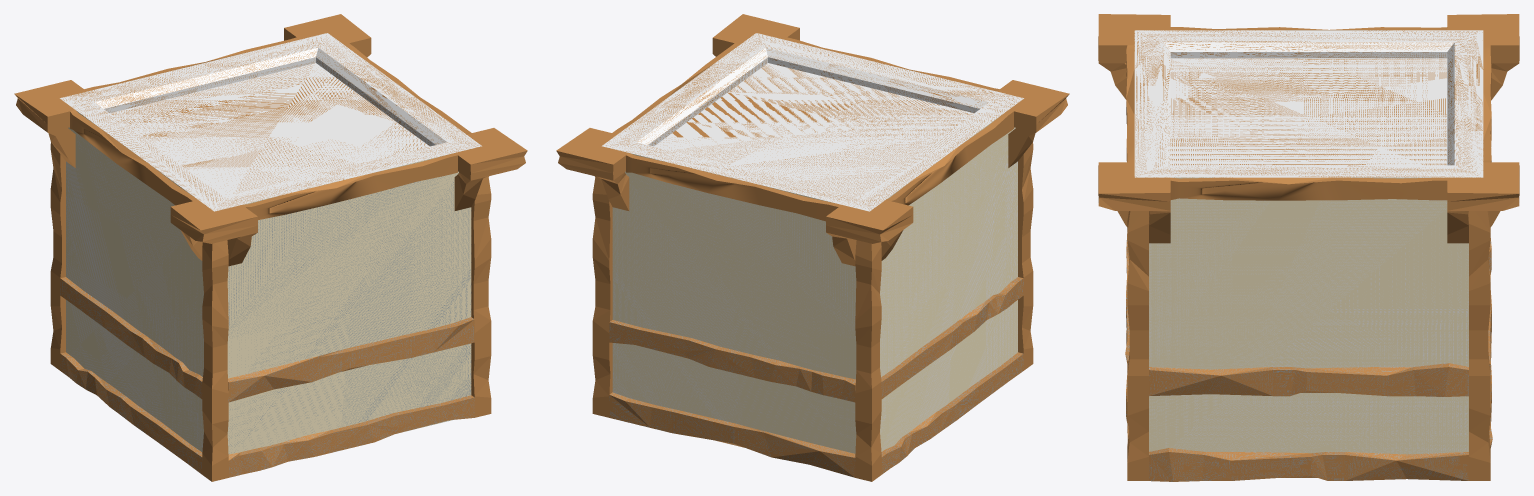
File: Fund2.fbx
3 renders of one model, left to right at view 1: azimuth 30°, elevation 25°; view 2: azimuth 150°, elevation 25°; view 3: azimuth 270°, elevation 25°, orthographic. The views are drawn at different scales.
Parts seen in each view (by area): view 1: Group2, G_79_2, G_15_2, G_12_1, G_79_3, G_17_3, G_16_4, G_11_1, G_11_2, G_16_3, G_79_1, G_16_2 (+4 smaller); view 2: Group2, G_79_1, G_15_1, G_12_2, G_79_4, G_17_1, G_16_2, G_11_2, G_11_1, G_16_1, G_79_2, G_16_4 (+4 smaller); view 3: Group2, G_14_2, G_14_1, G_17_4, G_79_3, G_79_4, G_16_3, G_16_1, G_16_2, G_16_4, G_17_3, G_17_1 (+1 smaller).
Boxes of the visible parts, x1,y1,x2,y2 form: Group2: (60,33,481,454); G_79_2: (202,207,228,481); G_15_2: (228,317,474,402); G_12_1: (228,395,474,477); G_79_3: (471,140,491,417); G_17_3: (242,153,457,219); G_16_4: (170,200,257,266); G_11_1: (60,352,202,474); G_11_2: (60,277,202,398); G_16_3: (454,128,527,210); G_79_1: (50,96,65,370); G_16_2: (14,80,86,167); Group2: (602,33,1023,453); G_79_1: (855,207,881,481); G_15_1: (609,392,855,477); G_12_2: (609,320,855,402); G_79_4: (592,140,612,417); G_17_1: (626,153,841,221); G_16_2: (826,200,913,266); G_11_2: (881,277,1023,398); G_11_1: (881,352,1023,474); G_16_1: (556,128,629,210); G_79_2: (1018,96,1033,370); G_16_4: (997,80,1069,167); Group2: (1134,30,1483,454); G_14_2: (1149,363,1468,396); G_14_1: (1149,448,1468,481); G_17_4: (1170,177,1447,200); G_79_3: (1127,171,1148,480); G_79_4: (1469,171,1490,480); G_16_3: (1098,162,1170,243); G_16_1: (1447,162,1519,243); G_16_2: (1447,14,1519,100); G_16_4: (1098,14,1170,99); G_17_3: (1126,45,1134,162); G_17_1: (1483,45,1491,162).
Size of the model in its own units: 2951 by 2300 by 2923.
